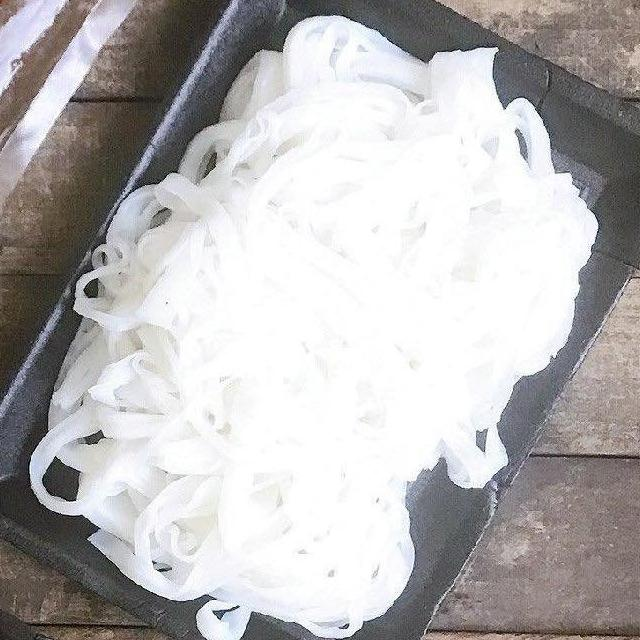banh pho: (19, 4, 608, 640)
